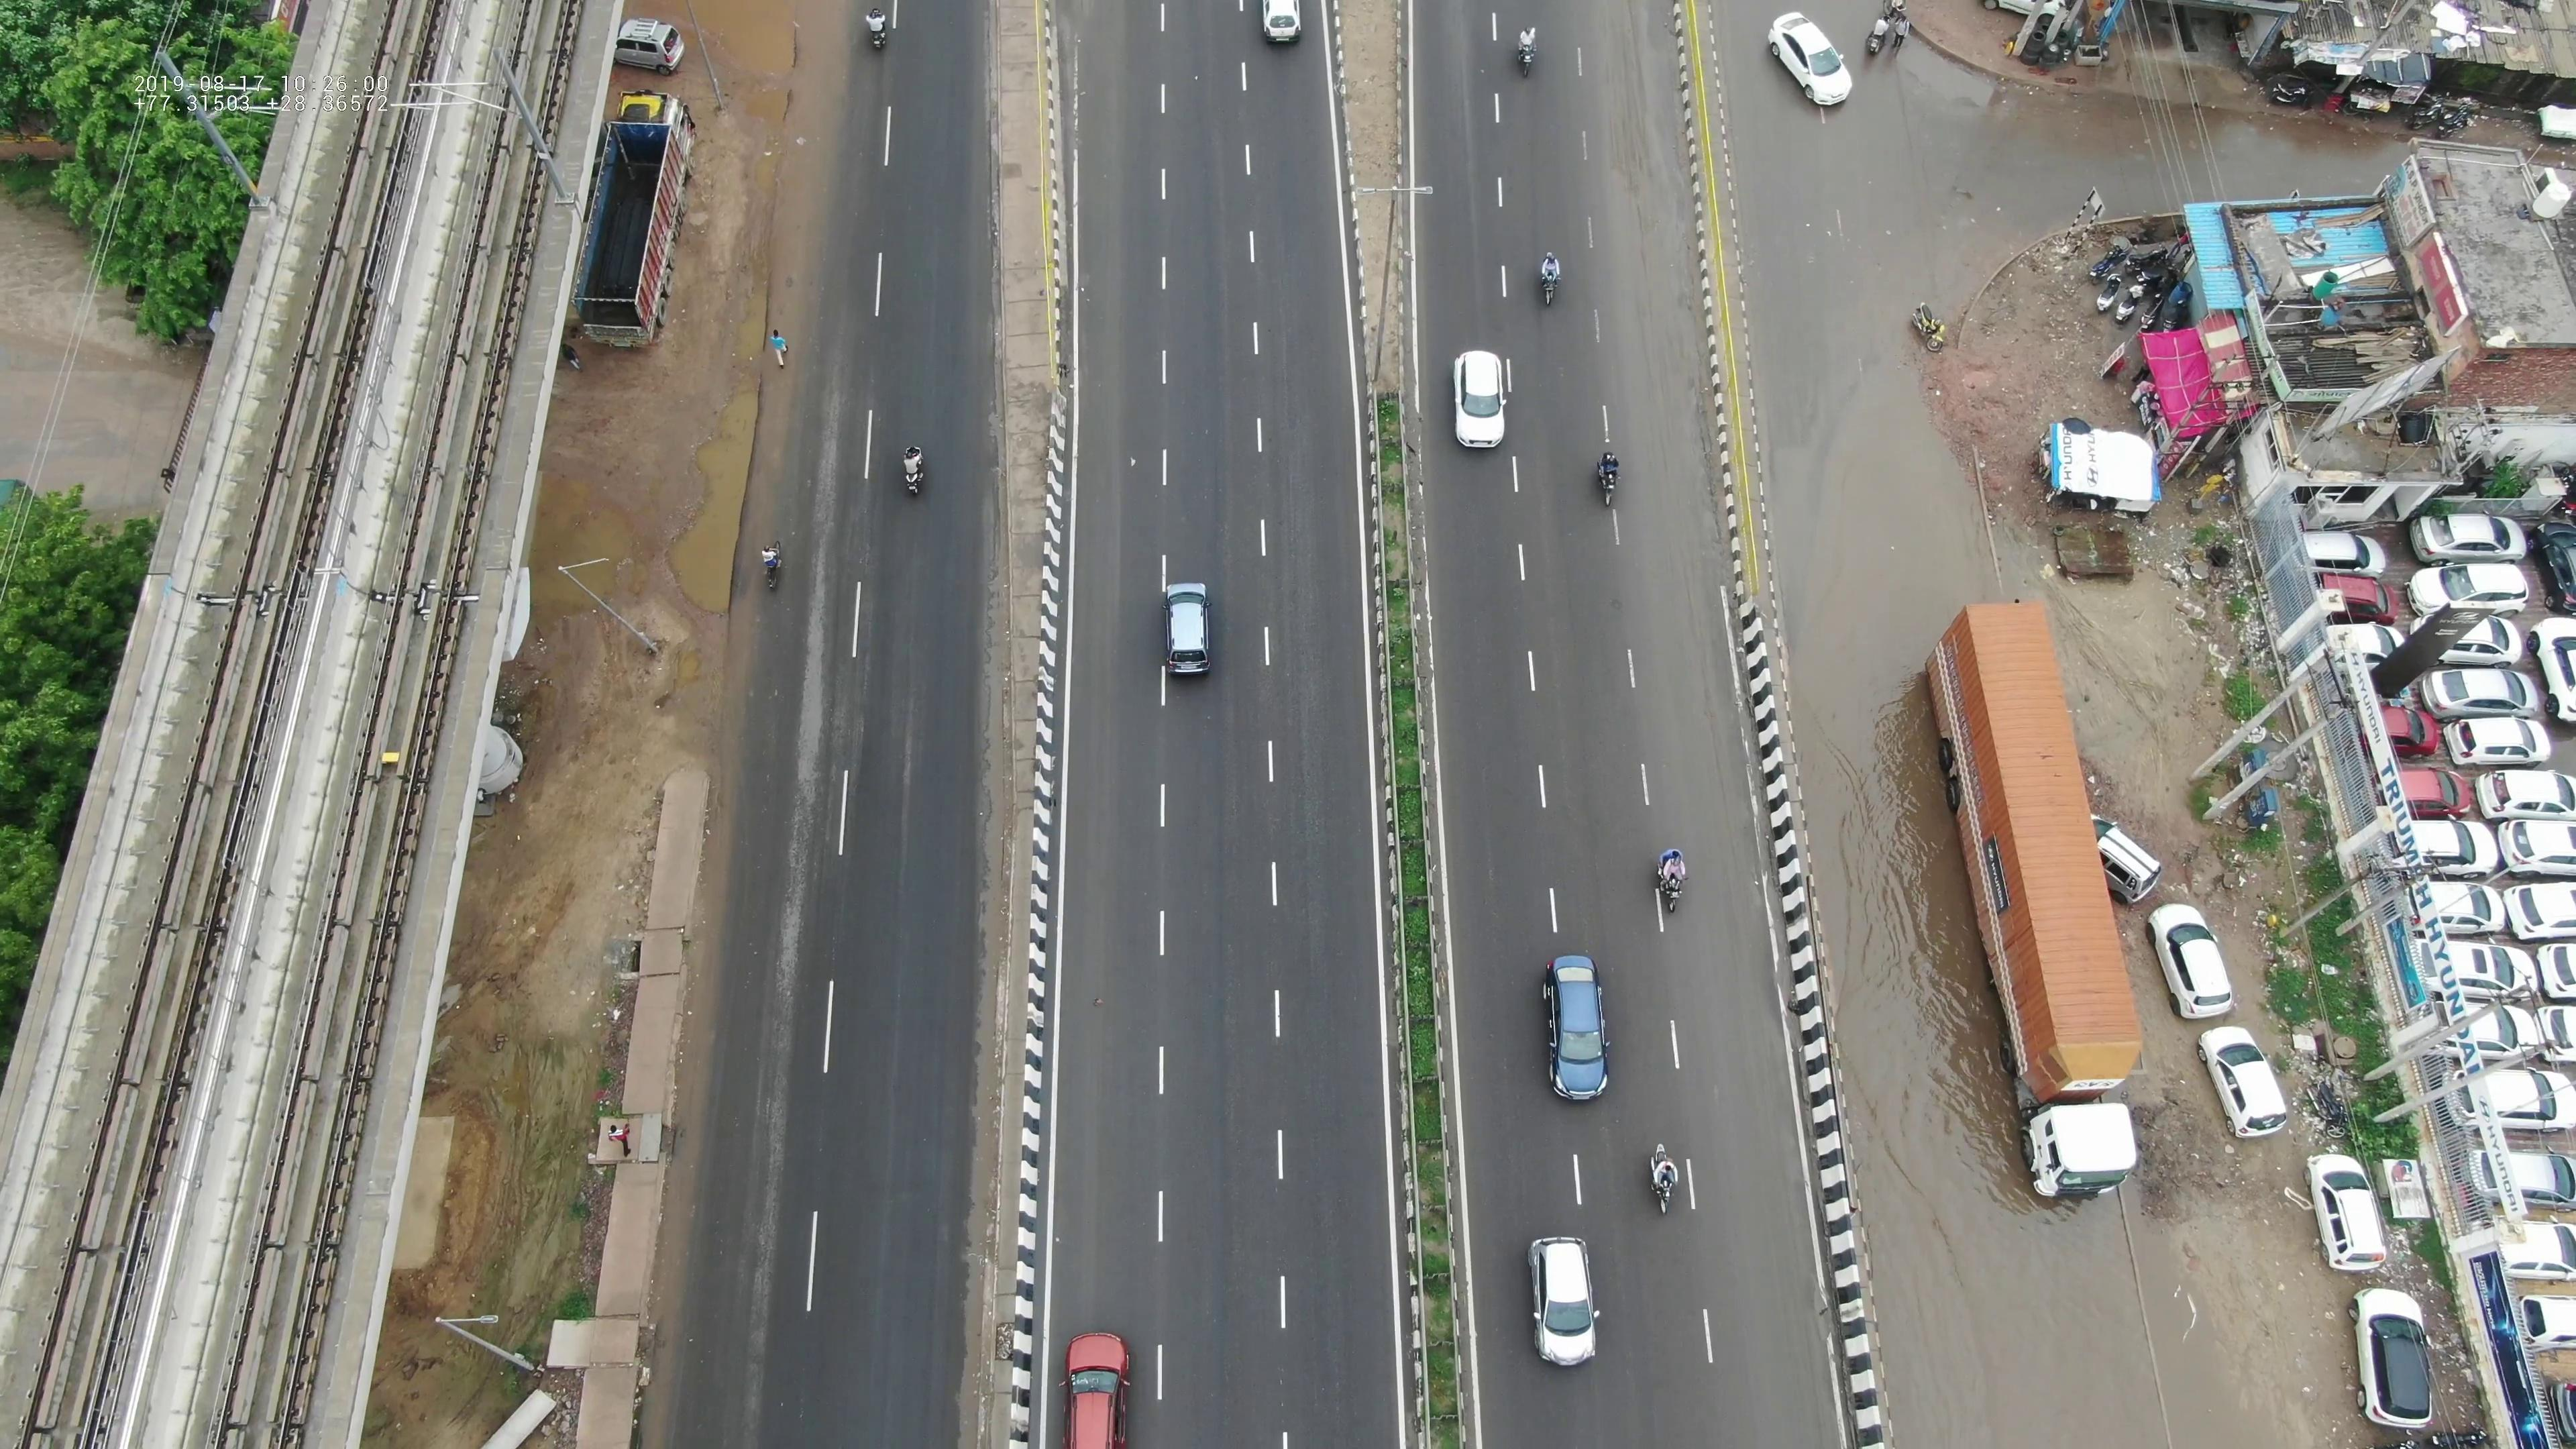Muddy_road: (1619, 200, 1718, 556)
Waterlogging: (1755, 317, 2028, 998), (1817, 1005, 2181, 1444), (656, 308, 787, 609)
